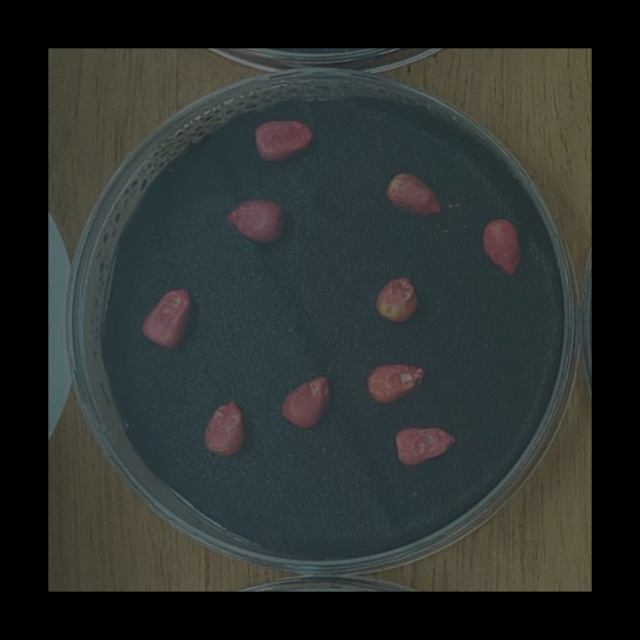Zea mays: (134, 282, 197, 355), (249, 114, 320, 169), (276, 369, 335, 434), (389, 421, 461, 474), (220, 193, 289, 248), (360, 357, 431, 410), (383, 167, 449, 224), (199, 396, 252, 465), (477, 214, 527, 283), (369, 271, 424, 327)
